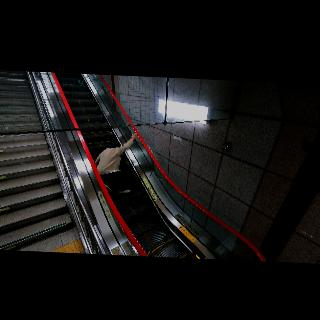anomaly: (94, 129, 144, 195)
